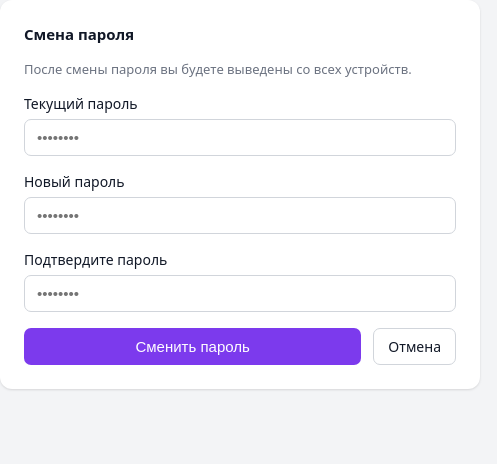
ChangePasswordView › shows the API error message on failure
The width and height of the screenshot is (497, 464).
Type "Wrong!" into the password field with id "current". click: (240, 138)
box: top-left (24, 119), bottom-right (456, 156)
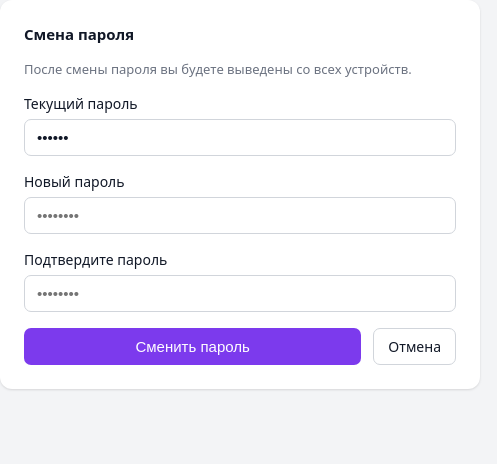
Type "NewPass1!" into the password field with id "new". click: (240, 216)
box: top-left (24, 197), bottom-right (456, 234)
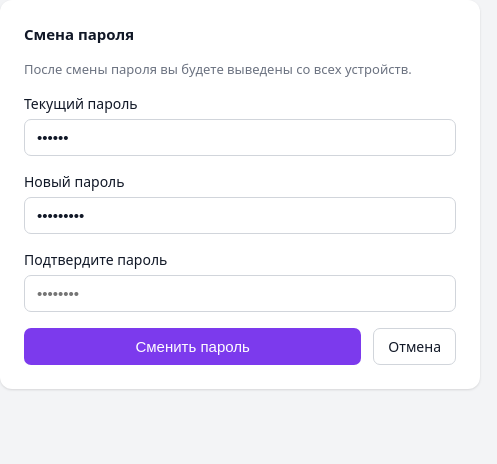
Type "NewPass1!" into the password field with id "confirm". click: (240, 294)
box: top-left (24, 275), bottom-right (456, 312)
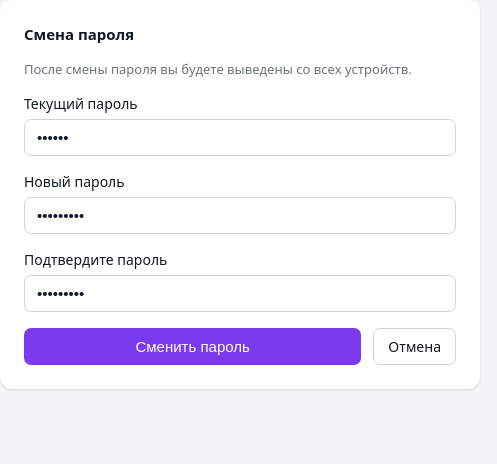
Submit the form, box top-left (24, 94), bottom-right (456, 365)
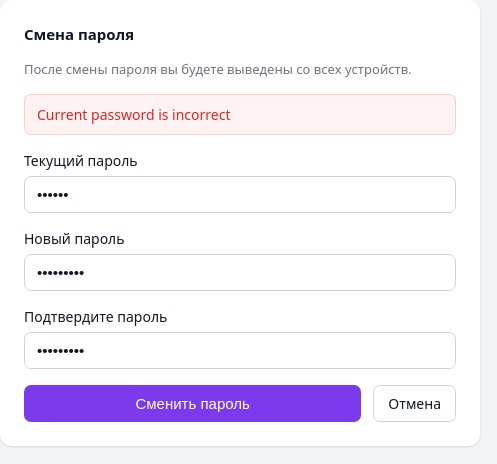
Check: the form is shown, box top-left (24, 151), bottom-right (456, 422)
Check: the text with class "form-error" reads "Current password is incorrect", box top-left (37, 105), bottom-right (230, 124)
